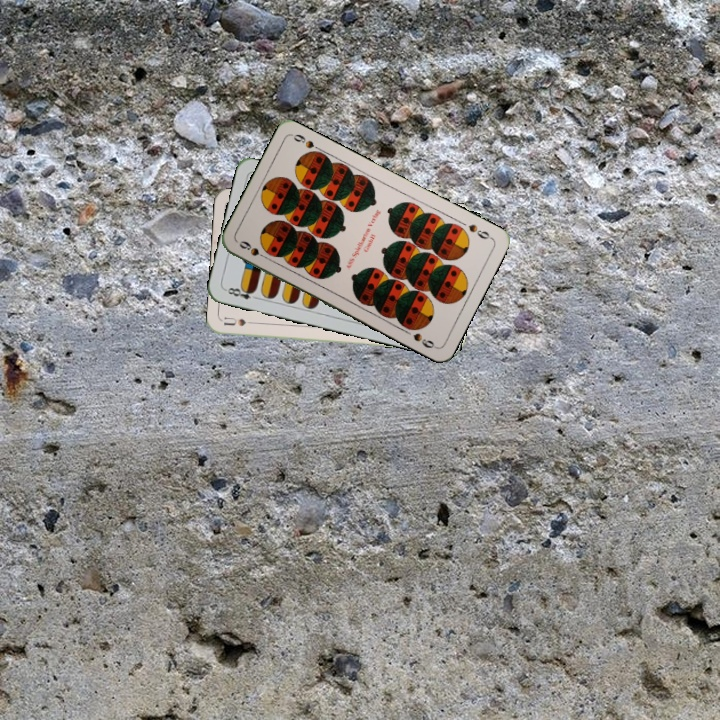E8: (222, 283, 262, 302)
S9: (235, 236, 272, 263), (464, 220, 495, 242)
SU: (221, 313, 261, 329)
